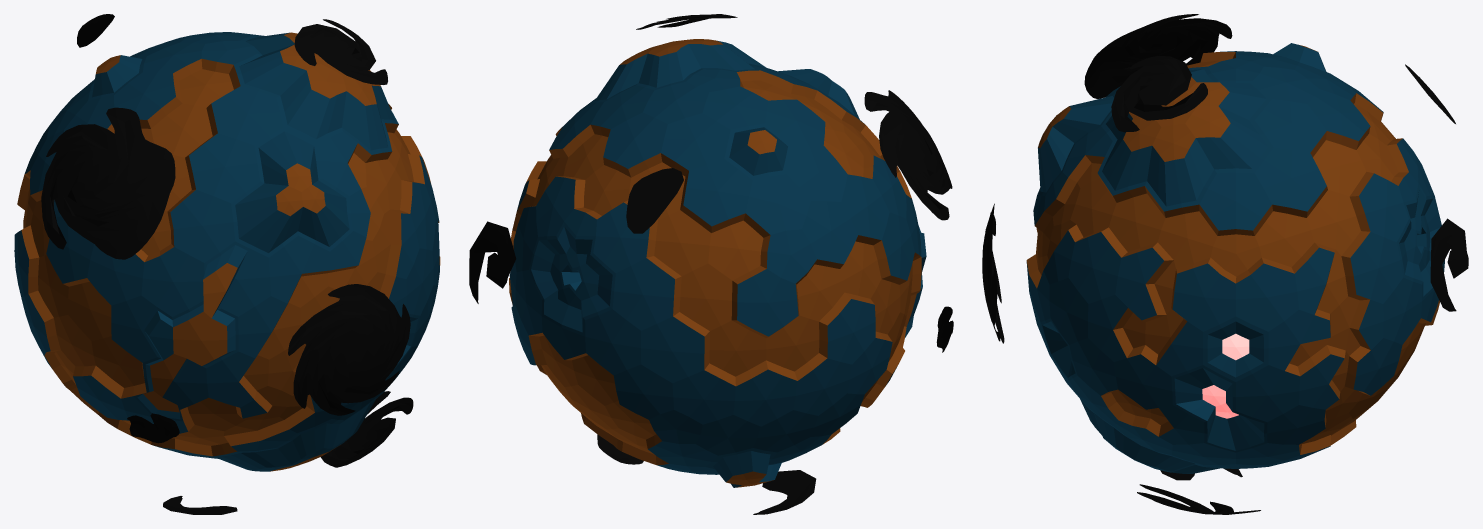
The model's file is Planet1Dest1.glb.
3 renders of one model, left to right at view 1: azimuth 30°, elevation 25°; view 2: azimuth 150°, elevation 25°; view 3: azimuth 270°, elevation 25°, orthographic. The views are drawn at different scales.
Visible parts, largest first — view 1: Icosphere.019; view 2: Icosphere.019; view 3: Icosphere.019.
Boxes of the visible parts, x1,y1,x2,y2 form: Icosphere.019: (14,14,440,514); Icosphere.019: (469,14,953,514); Icosphere.019: (982,14,1468,514).
Size of the model in its own units: 1.91 by 2.19 by 2.11.
